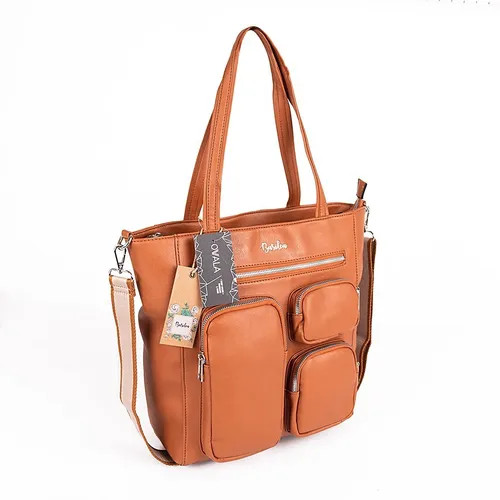cartera: (87, 17, 395, 477)
cuero: (85, 15, 393, 475)
